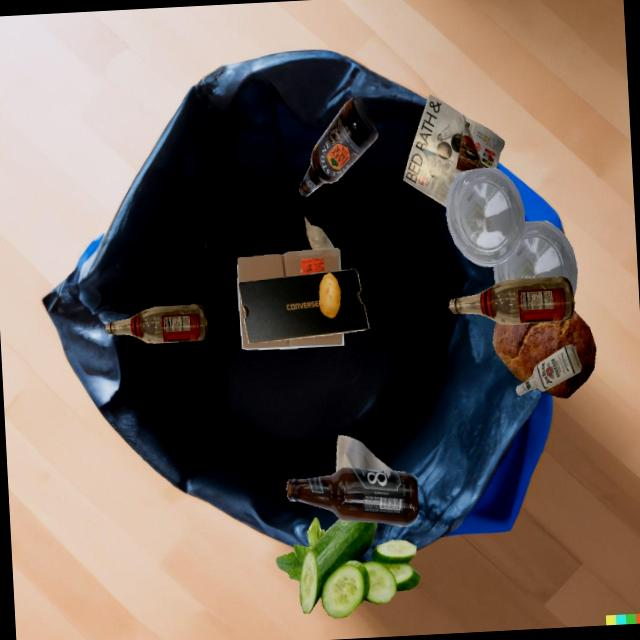biowaste: (276, 517, 420, 618), (493, 310, 596, 398), (319, 272, 341, 318)
cardboard: (237, 248, 344, 350), (239, 269, 369, 343)
glass: (286, 467, 419, 526), (299, 97, 378, 196), (449, 276, 575, 325), (106, 304, 208, 343), (516, 344, 581, 395), (305, 216, 334, 250)
paper: (403, 94, 504, 207), (336, 435, 394, 472)
plastic: (446, 167, 525, 267), (493, 220, 577, 298)
